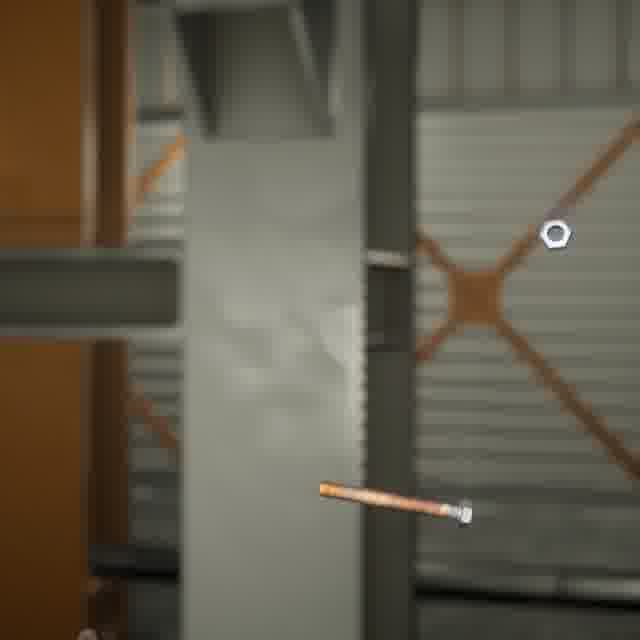bolt: (313, 475, 477, 532)
nut: (535, 214, 576, 255)
